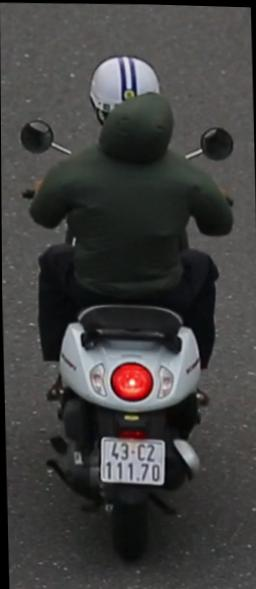LP: (97, 429, 169, 491)
helmet: (85, 47, 168, 146)
